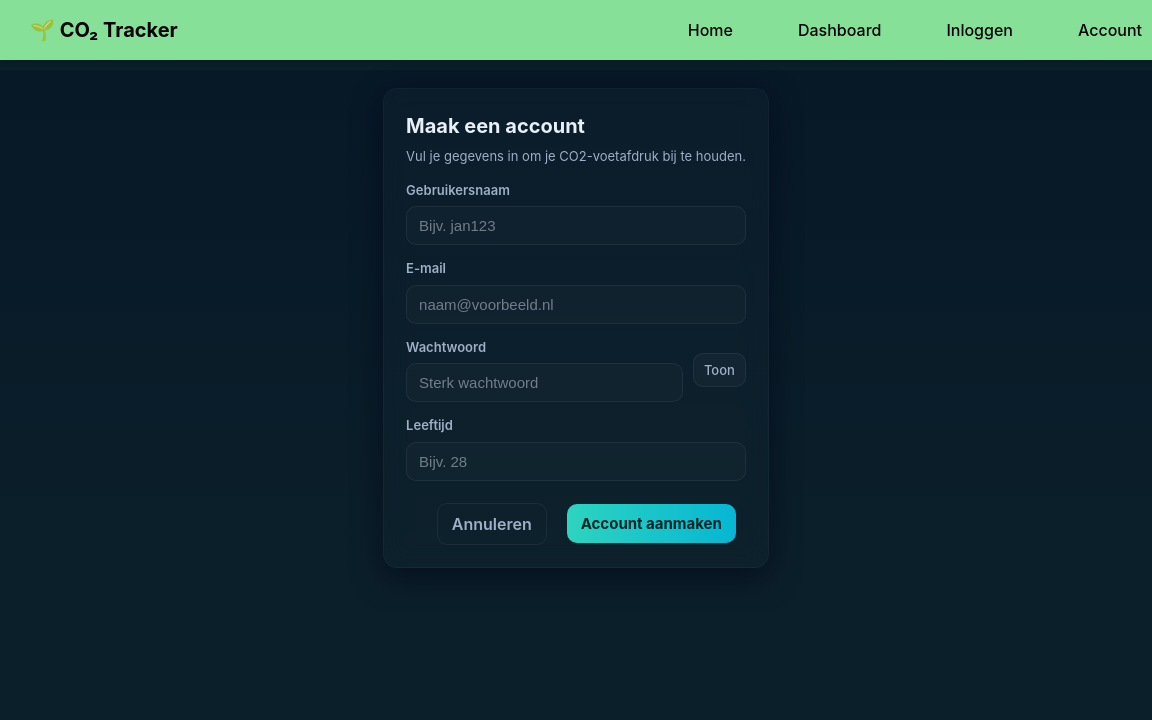
Test case: Create Account UI Test (Mocked Backend) › should allow the user to create an account
Type "Jeroen" into the field named "username". click: (576, 226)
box: [406, 206, 746, 245]
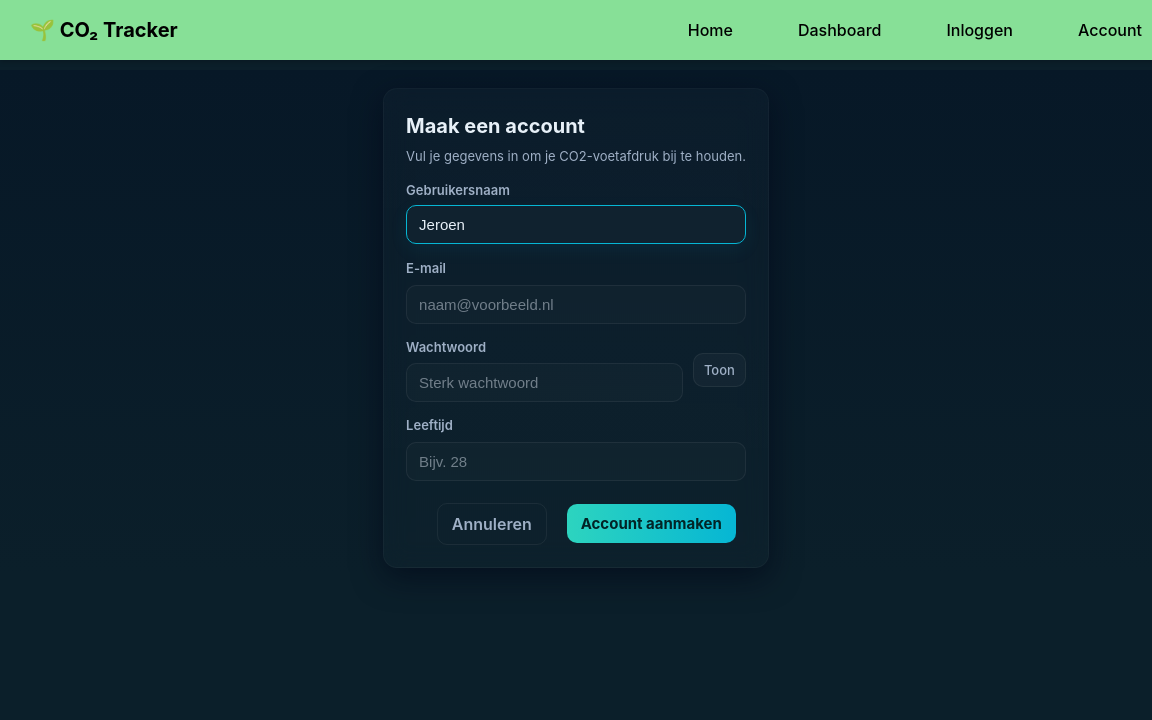
Type "21" into the number field named "age". click: (576, 462)
box: [406, 442, 746, 481]
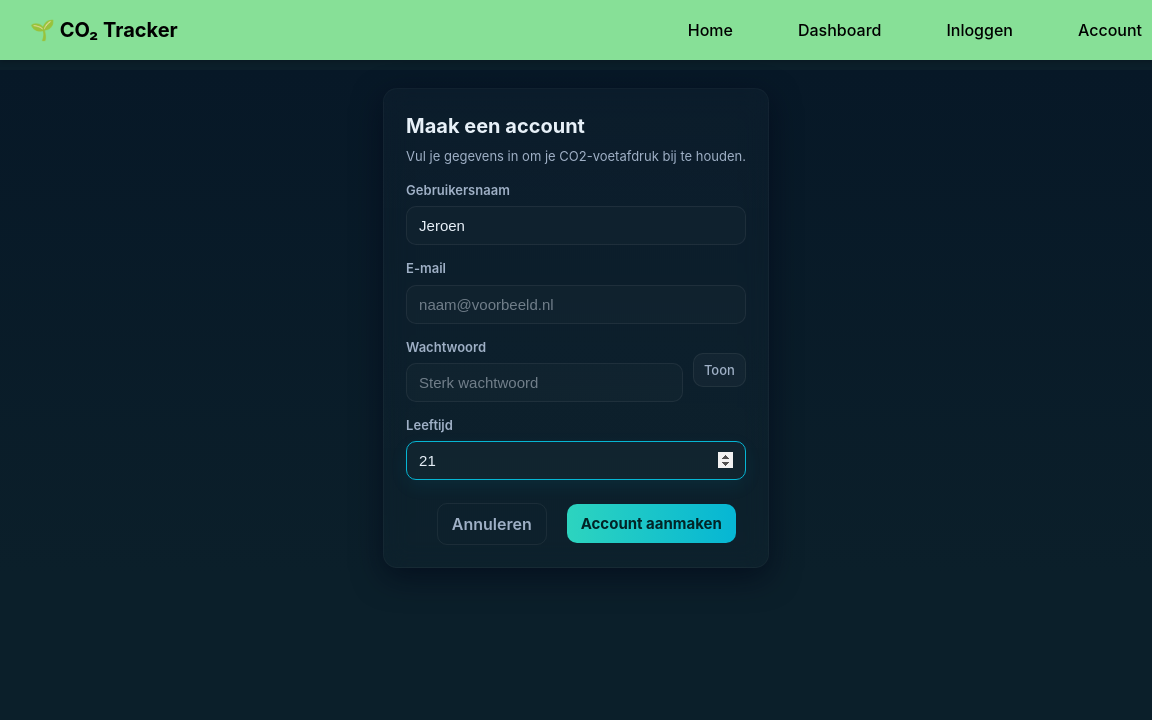
Type "Jeroen@Gmail.com" into the field named "email". click: (576, 305)
box: [406, 285, 746, 324]
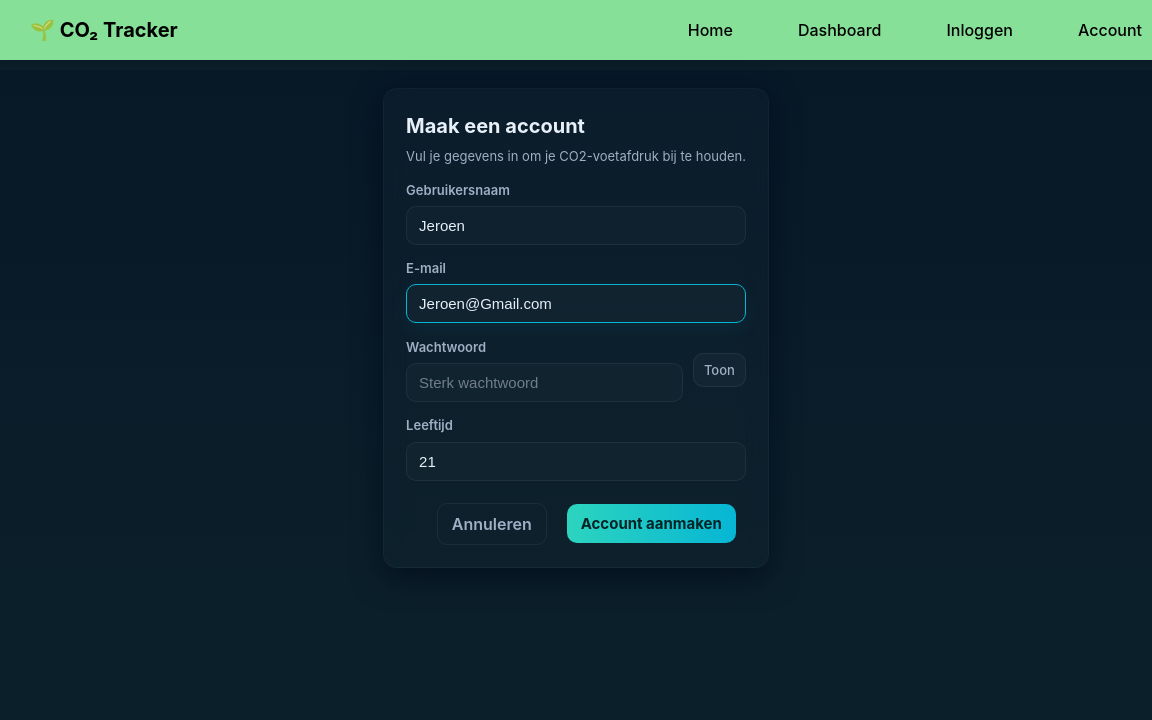
Type "Password123" into the password field named "password". click: (545, 383)
box: [406, 363, 683, 402]
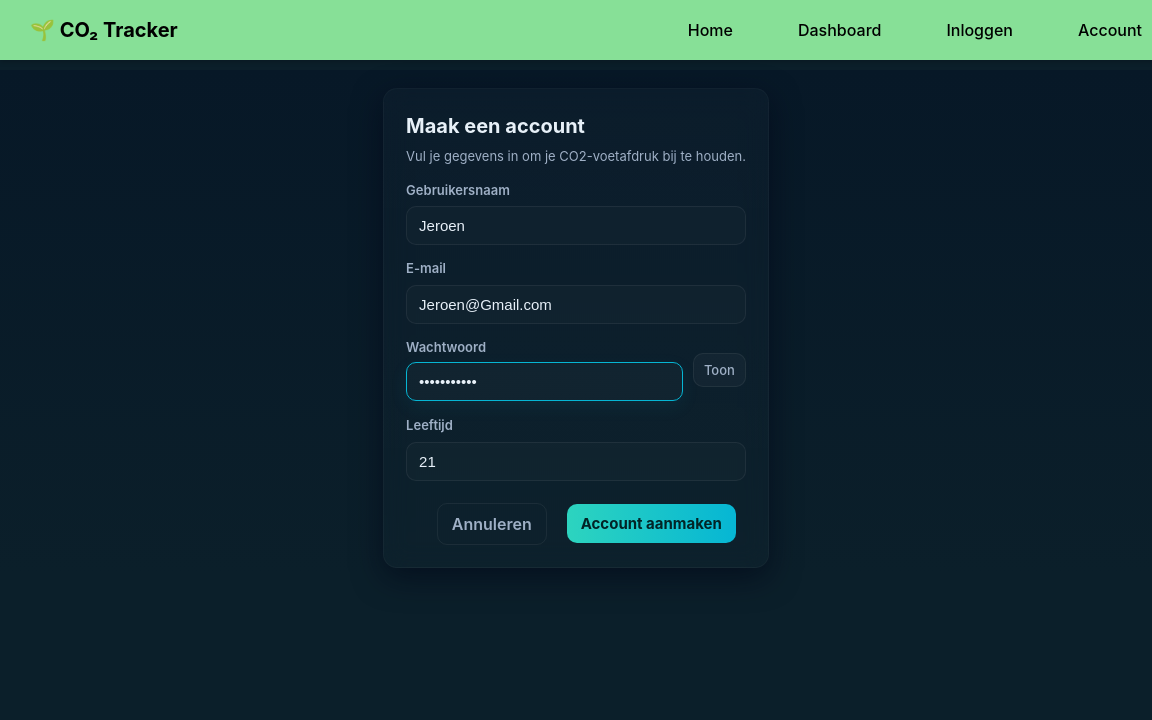
Click the submit button. click: (652, 524)
box: [567, 504, 736, 543]
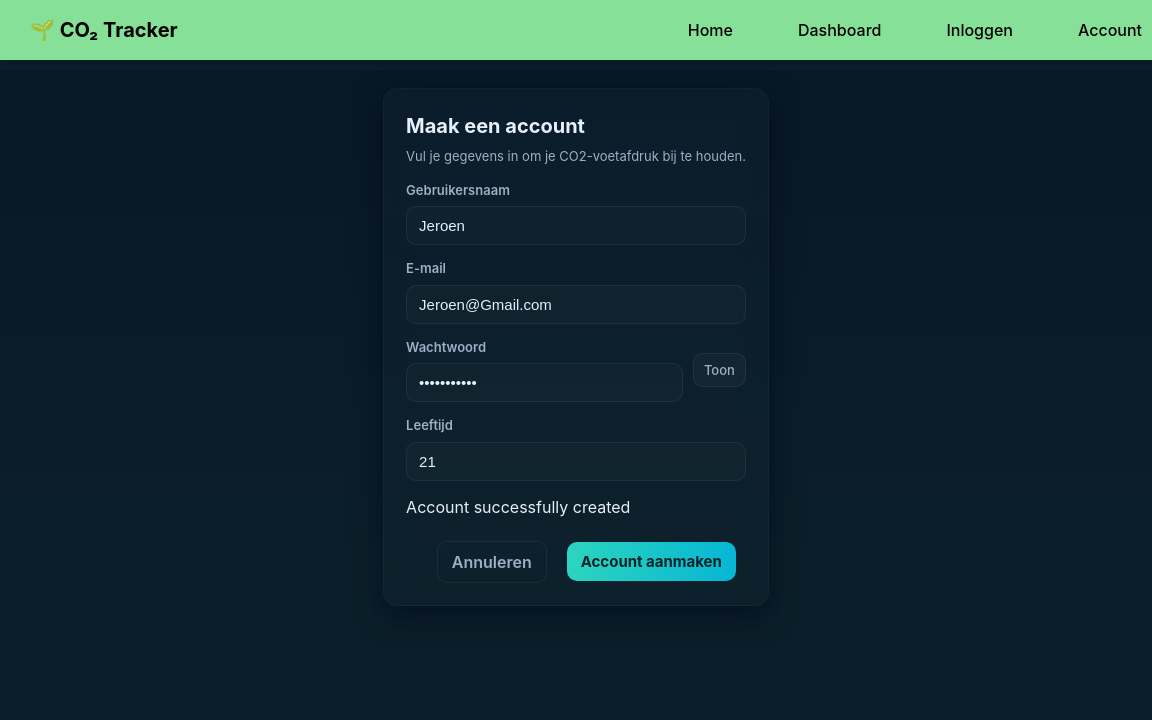
Now the text "Account successfully created" is shown, box [406, 496, 630, 516]
